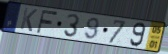3: (62, 14, 81, 38)
7: (108, 19, 128, 45)
9: (83, 17, 103, 41), (130, 22, 148, 48)
F: (35, 8, 59, 34)
K: (18, 7, 38, 34)
